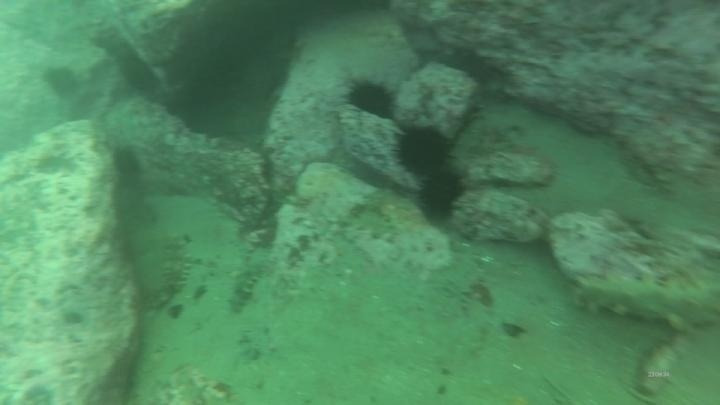echinus: (391, 122, 454, 177), (415, 167, 466, 223), (344, 77, 399, 121), (42, 63, 81, 100), (109, 144, 144, 184)
holothurian: (567, 271, 720, 333), (149, 230, 194, 308), (225, 252, 270, 317)
